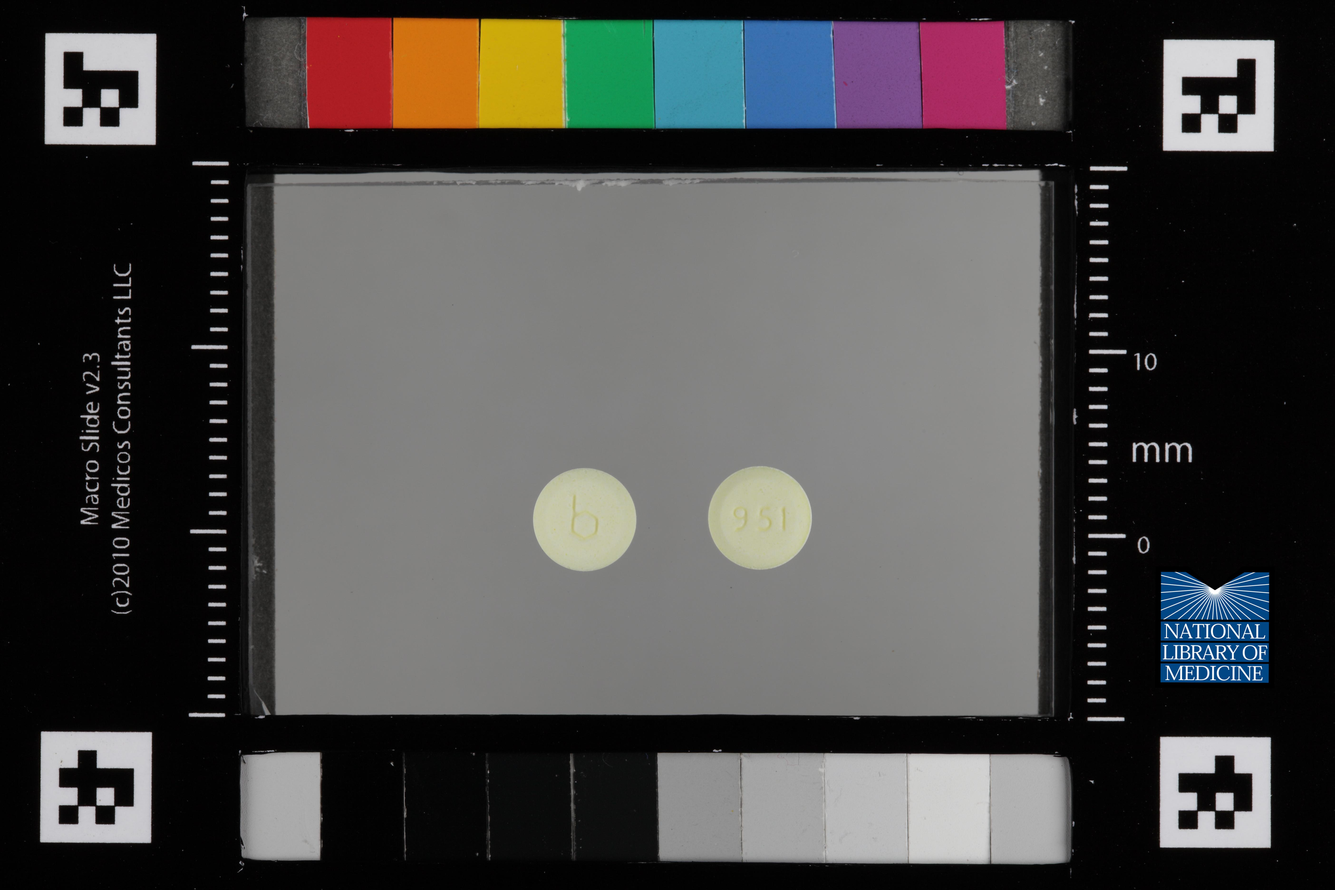Pill: (525, 461, 645, 580), (704, 456, 819, 580)
